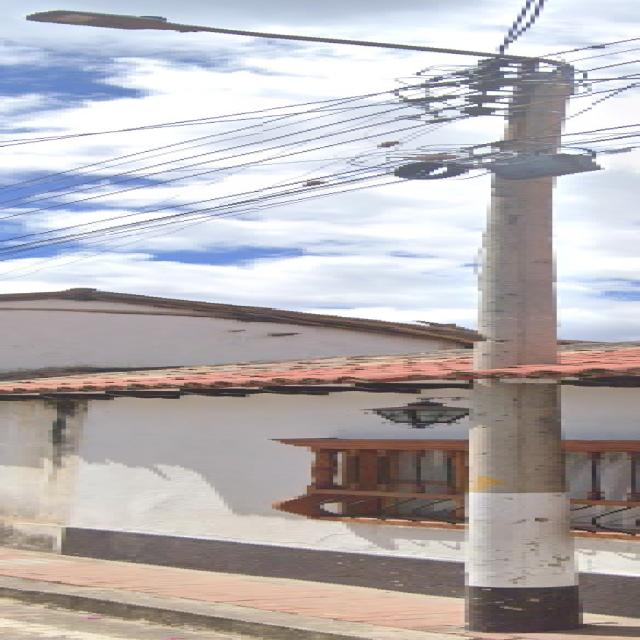Fachada: (4, 288, 478, 596), (495, 340, 640, 612)
Poste: (31, 10, 587, 370), (469, 379, 583, 632)
